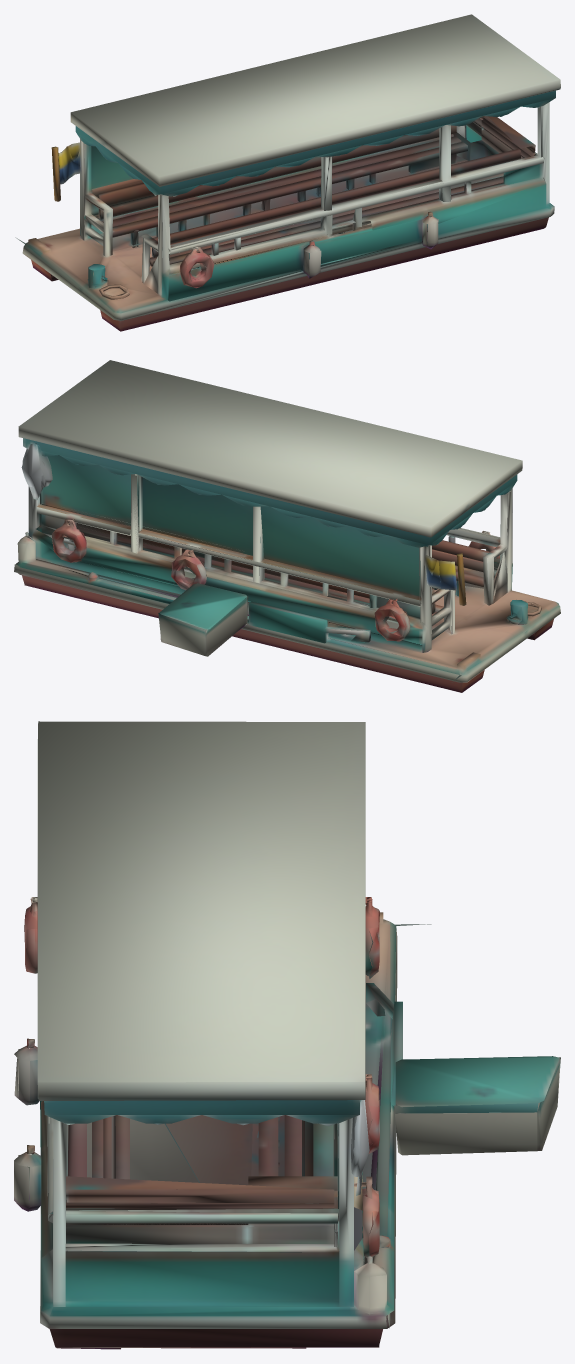
File: PlanchonP.glb
3 renders of one model, top to bottom at view 1: azimuth 30°, elevation 25°; view 2: azimuth 150°, elevation 25°; view 3: azimuth 270°, elevation 25°, orthographic. The views are drawn at different scales.
Visible parts, largest first — view 1: mesh_rep_0_ori_repair_quad.002; view 2: mesh_rep_0_ori_repair_quad.002; view 3: mesh_rep_0_ori_repair_quad.002.
Boxes of the visible parts, x1,y1,x2,y2 form: mesh_rep_0_ori_repair_quad.002: [15, 14, 560, 331]; mesh_rep_0_ori_repair_quad.002: [14, 360, 560, 692]; mesh_rep_0_ori_repair_quad.002: [14, 721, 560, 1349].
Size of the model in its own units: 2.18 by 0.7102 by 1.27.
1 material, 1 textured.
